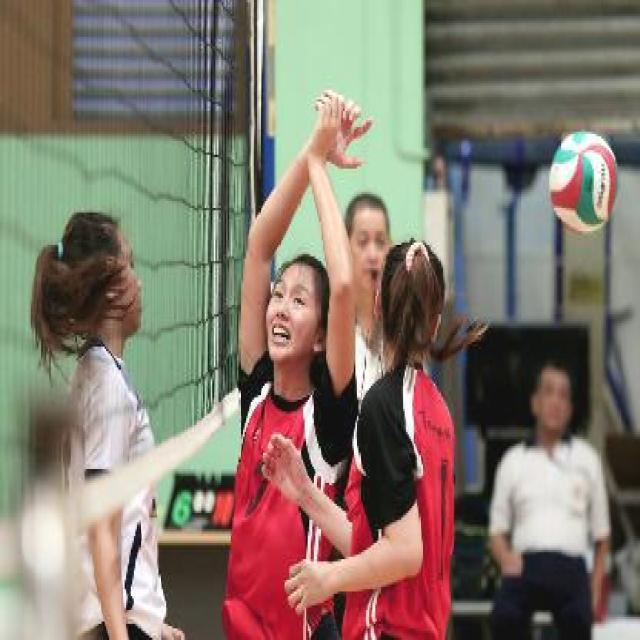volleyball: (549, 131, 619, 232)
